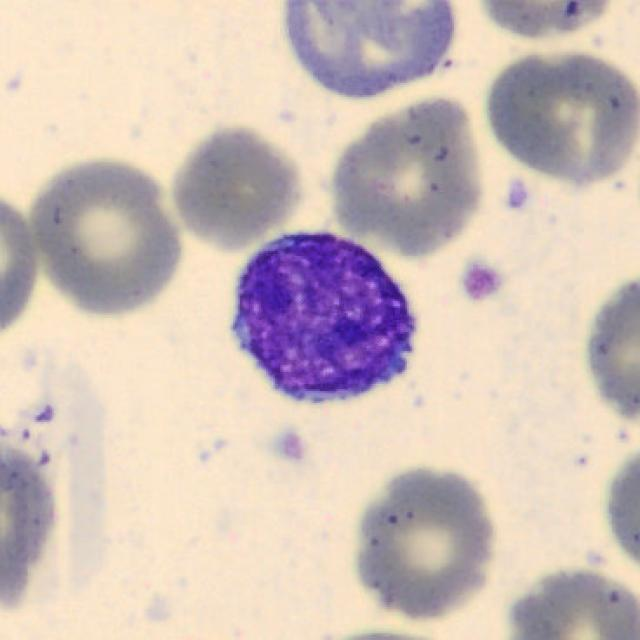Linfocito: (231, 234, 416, 405)
